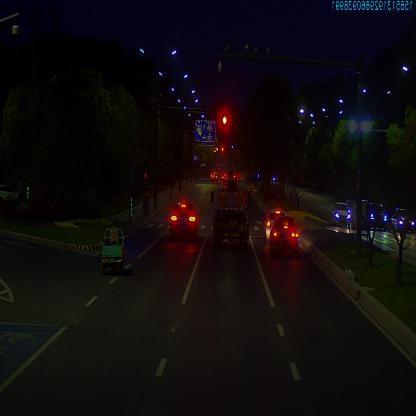traffic-light: (222, 109, 229, 124)
